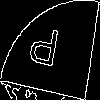P: (25, 25, 62, 76)
